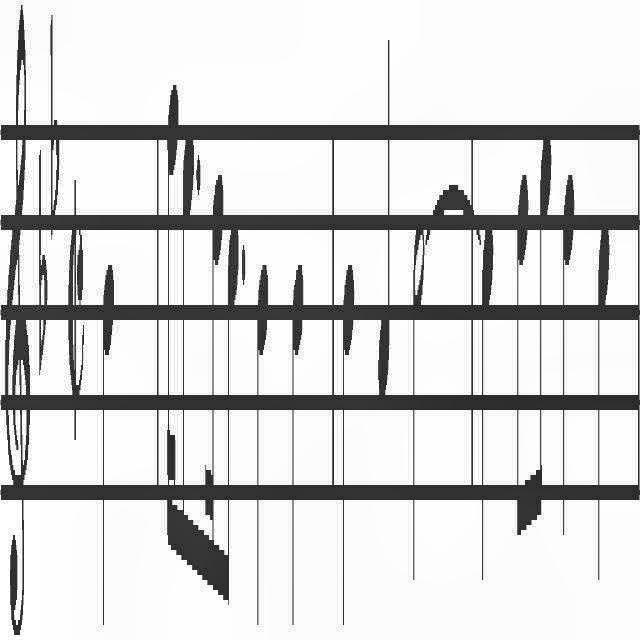Bass-clef: (2, 0, 34, 640)
Bemol: (46, 1, 62, 256), (36, 136, 49, 402)
Eighth-note: (535, 110, 553, 540), (514, 155, 530, 578), (182, 86, 194, 574), (225, 212, 239, 622)
Half-note: (410, 193, 424, 594)
Quarter-note: (288, 225, 308, 623), (99, 227, 117, 640), (341, 254, 359, 640), (376, 5, 392, 411), (596, 186, 612, 586), (256, 251, 271, 640), (561, 157, 575, 559), (482, 183, 494, 582)
Sixteenth-note: (162, 20, 182, 588), (204, 136, 222, 618)
